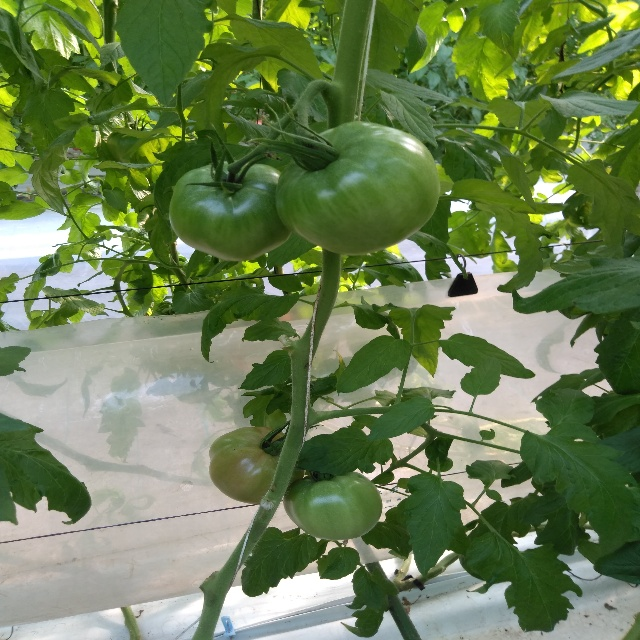b_green: (274, 121, 442, 255), (168, 161, 292, 262), (282, 470, 383, 541)
b_half_ripened: (209, 427, 304, 504)
